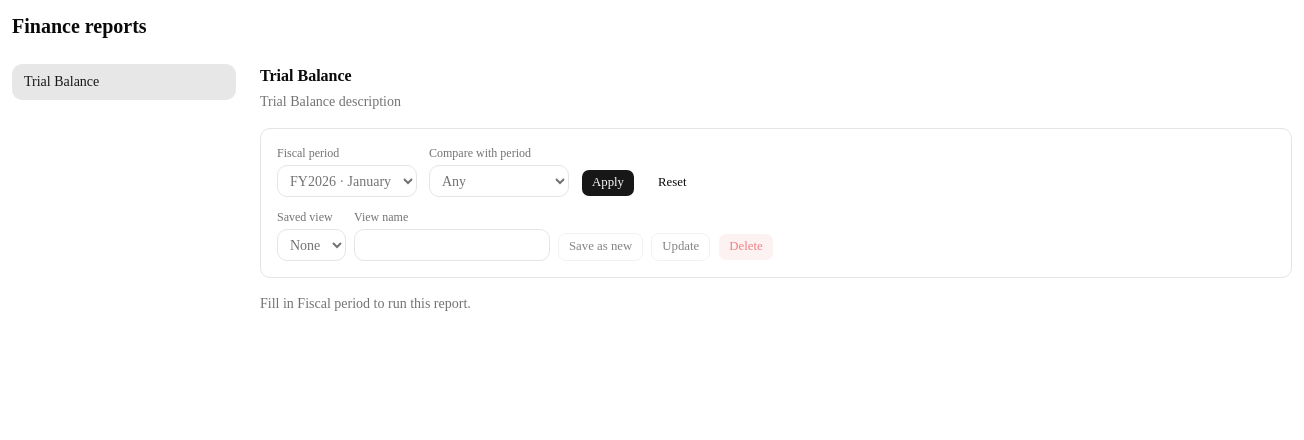
Test case: Finance page › does not run a report until its required filters are filled
This screenshot has width=1304, height=440.
Expected: the message with test id "missing-filters" shows "Fiscal period", [297,296,370,311]
Select "FY2026 · January" in the dropdown labelled "Fiscal period": coordinates (347, 181) [277,165,417,197]
Click the button "Apply": coordinates (608, 183) [581,169,635,197]
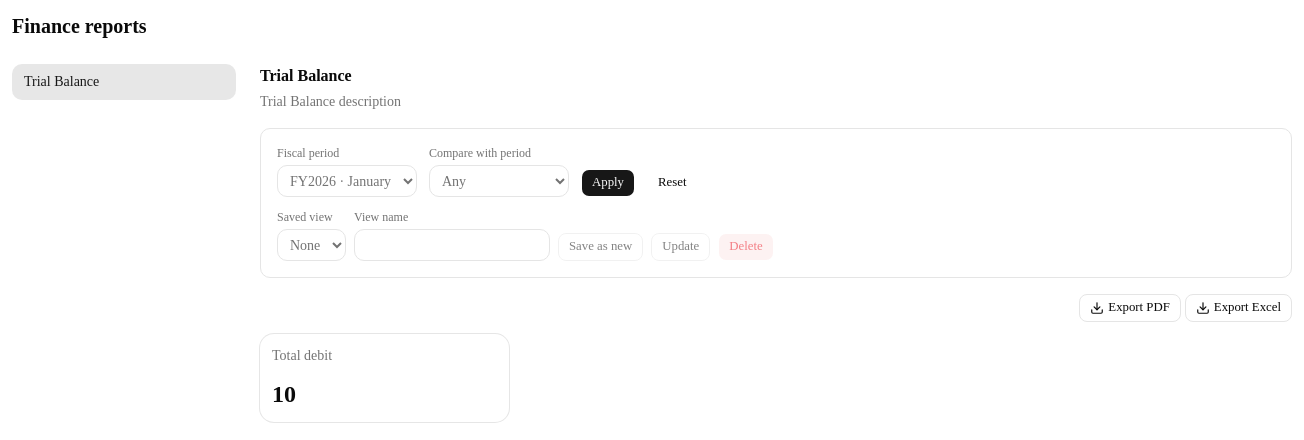
Result: the button "Export PDF" is shown at [1079,294,1181,322]
